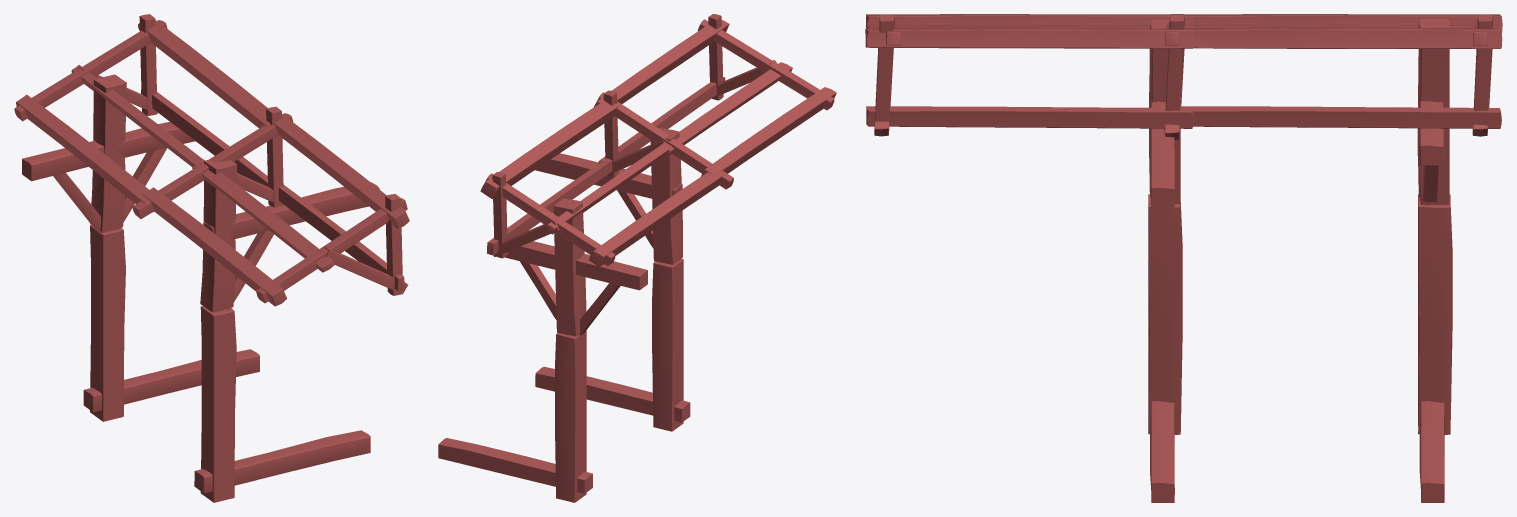
The model's file is Beam_Structure_26A_Lod0.fbx.
3 views of the same model, side by side, from view 1: azimuth 30°, elevation 25°; view 2: azimuth 150°, elevation 25°; view 3: azimuth 270°, elevation 25° (orthographic). The views are drawn at different scales.
Visible parts, largest first — view 1: Beam_Structure_26A_Lod0; view 2: Beam_Structure_26A_Lod0; view 3: Beam_Structure_26A_Lod0.
Boxes of the visible parts, x1,y1,x2,y2 form: Beam_Structure_26A_Lod0: [14, 14, 409, 502]; Beam_Structure_26A_Lod0: [438, 14, 836, 502]; Beam_Structure_26A_Lod0: [865, 14, 1502, 502].
Size of the model in its own units: 301 by 445 by 574.
